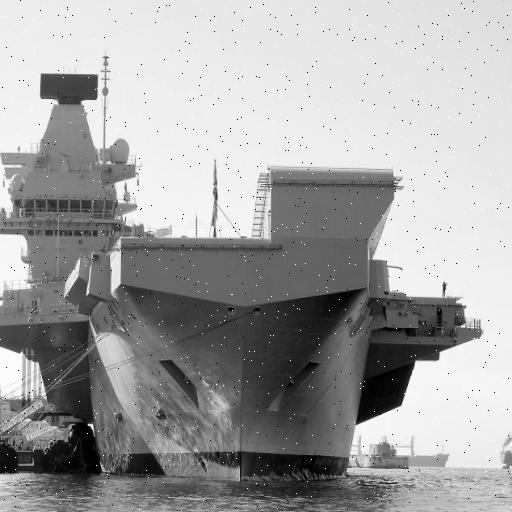Portanaves: (1, 46, 485, 488)
